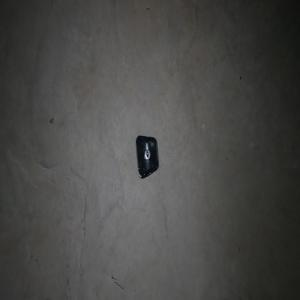LuggagePart: (135, 134, 159, 179)
